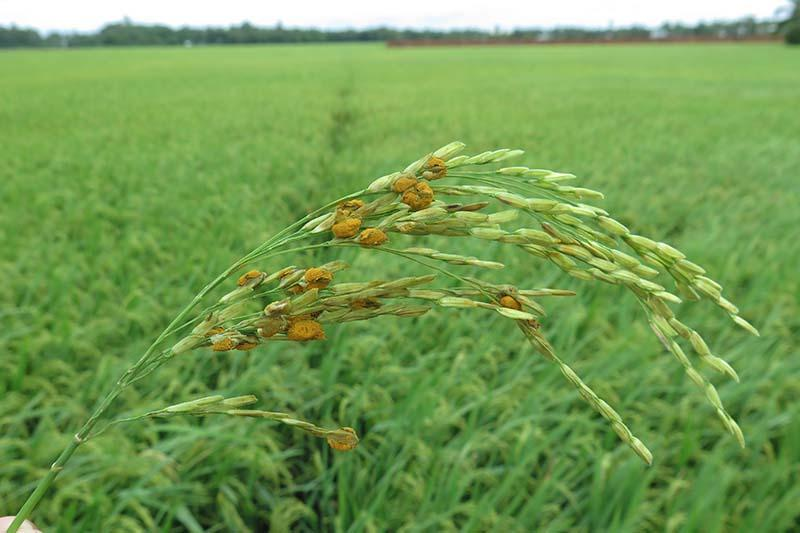False Smut: (383, 177, 447, 213), (269, 265, 339, 296), (199, 320, 263, 353), (327, 193, 366, 242), (313, 423, 363, 452), (288, 312, 330, 345), (341, 291, 388, 318), (419, 148, 457, 178), (497, 284, 527, 319), (231, 266, 268, 292)
